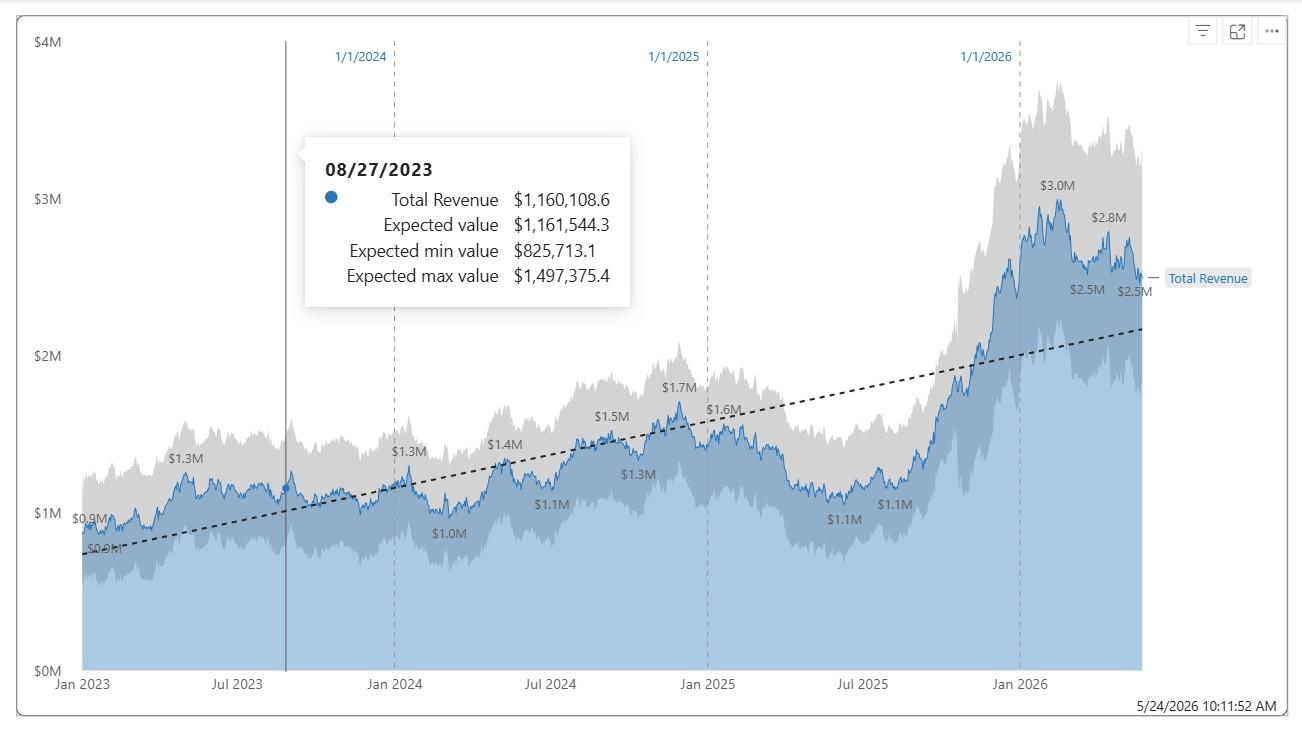

What the dashboard file says about the page in this screenshot:
{"tool":"powerbi","page":{"name":"Revenue Trend","canvas":[1280,720],"ordinal":0},"visuals":[{"type":"lineChart","fields":{"Category":["dimdate.fulldate"],"Y":["DAX.Total Sales"]},"box":[16,16,1248,688],"z":0},{"type":"card","fields":{"Values":["Min(Date Last Refreshed.Date Last Refreshed)"]},"box":[1088,672,192,48],"z":1}]}

Visuals, with their boxes in screenshot pixels (x1, y1, x2, y2), scaled from the page's 1280x720 canvas onto the 1302x732 screenshot:
lineChart - dimdate.fulldate x DAX.Total Sales: [16,16,1286,716]
card - Min(Date Last Refreshed.Date Last Refreshed): [1107,683,1301,731]
